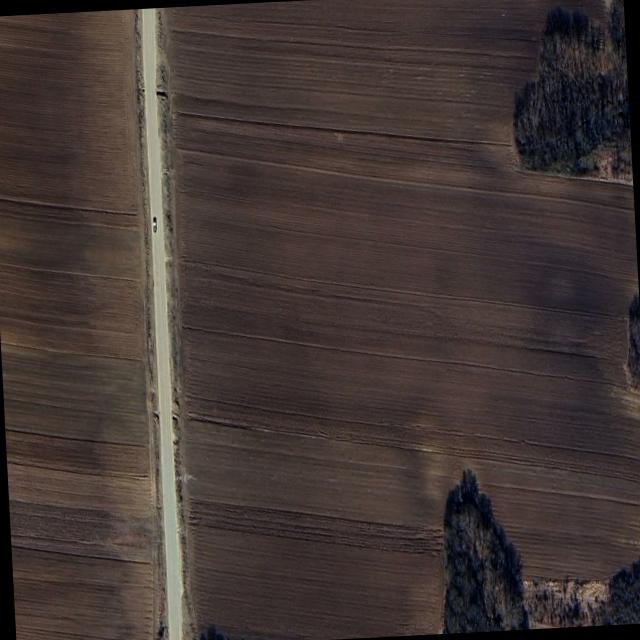bare-soil: (154, 0, 640, 640), (0, 9, 167, 640)
building: (140, 9, 185, 640)
tree: (440, 498, 640, 634), (512, 0, 633, 184), (626, 293, 640, 390), (191, 631, 224, 640)
